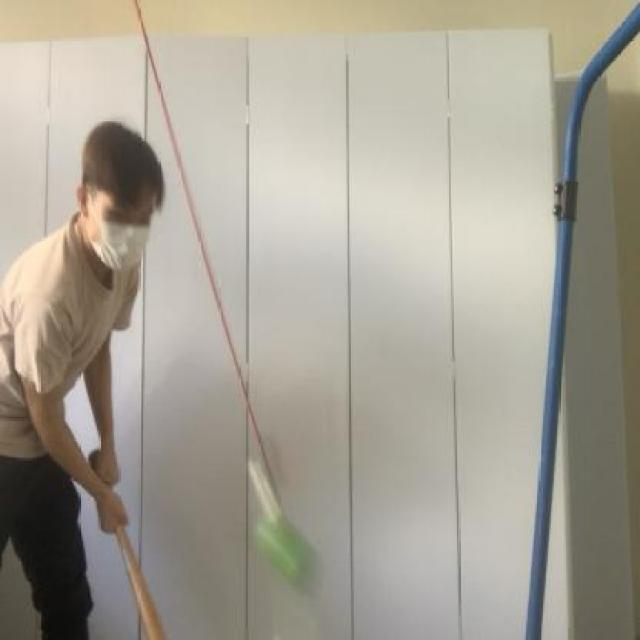baseball: (250, 499, 324, 598)
